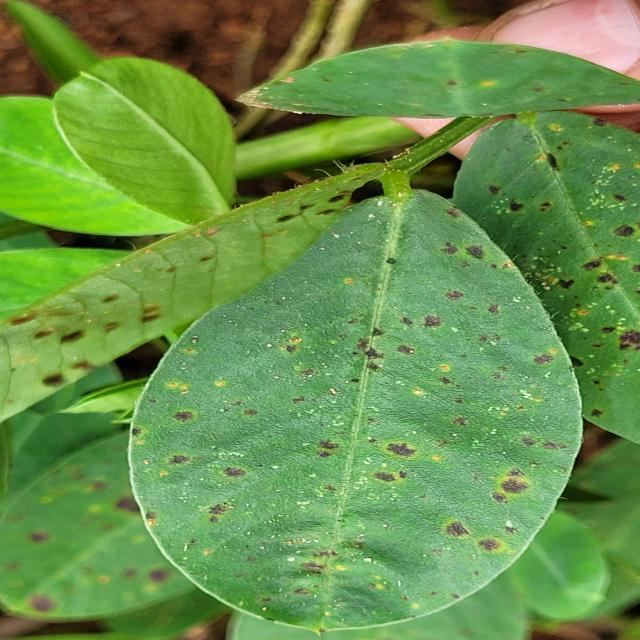Ground nut_tikka leaf spot: (119, 183, 590, 633)
